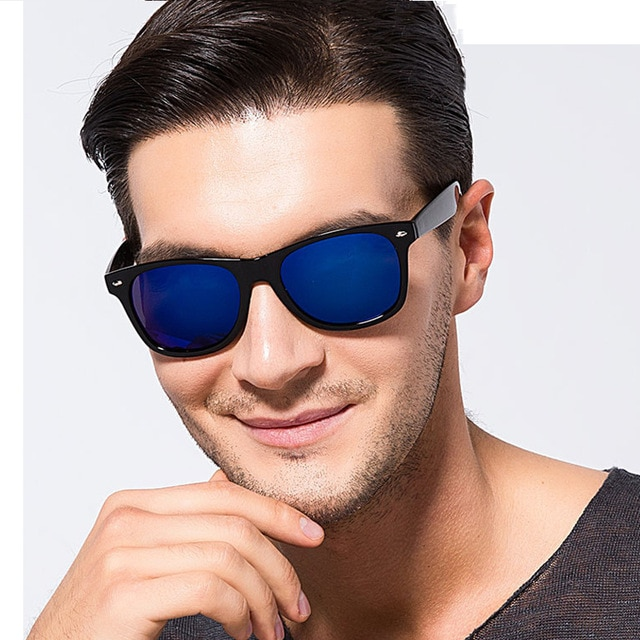sunglasses: (51, 225, 427, 358)
